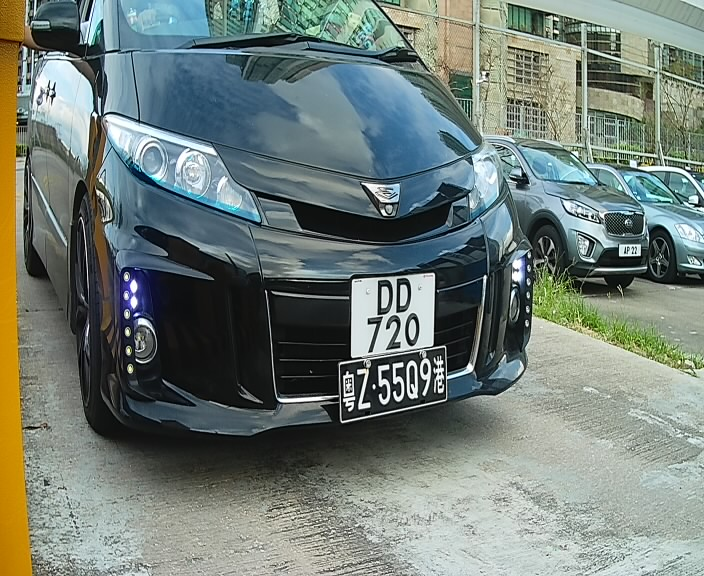Car: (32, 17, 577, 489)
License Plate: (341, 250, 446, 376)
